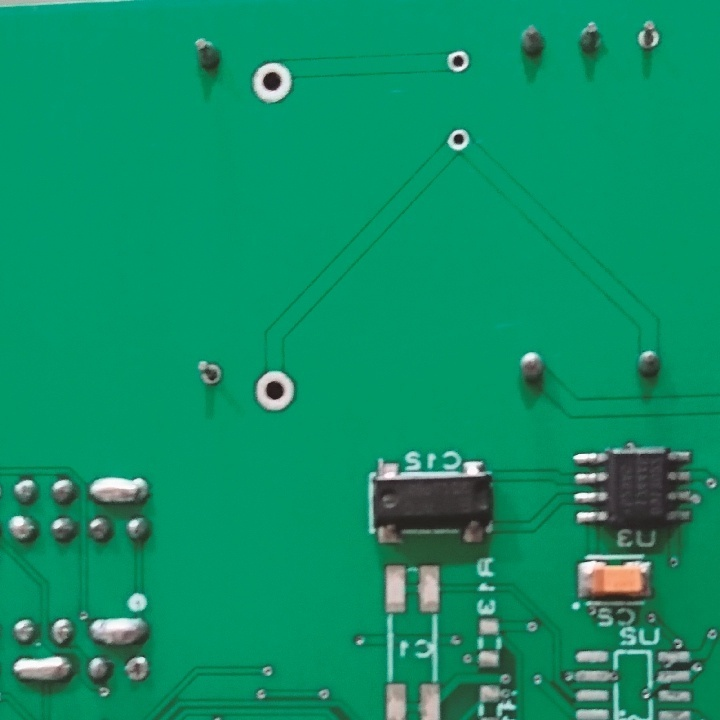F: (247, 60, 297, 105), (251, 368, 300, 412), (636, 18, 665, 57), (194, 357, 227, 390), (121, 655, 151, 685), (444, 126, 473, 155), (444, 49, 472, 73)
P: (86, 475, 151, 506), (87, 617, 150, 646), (12, 657, 76, 683)
